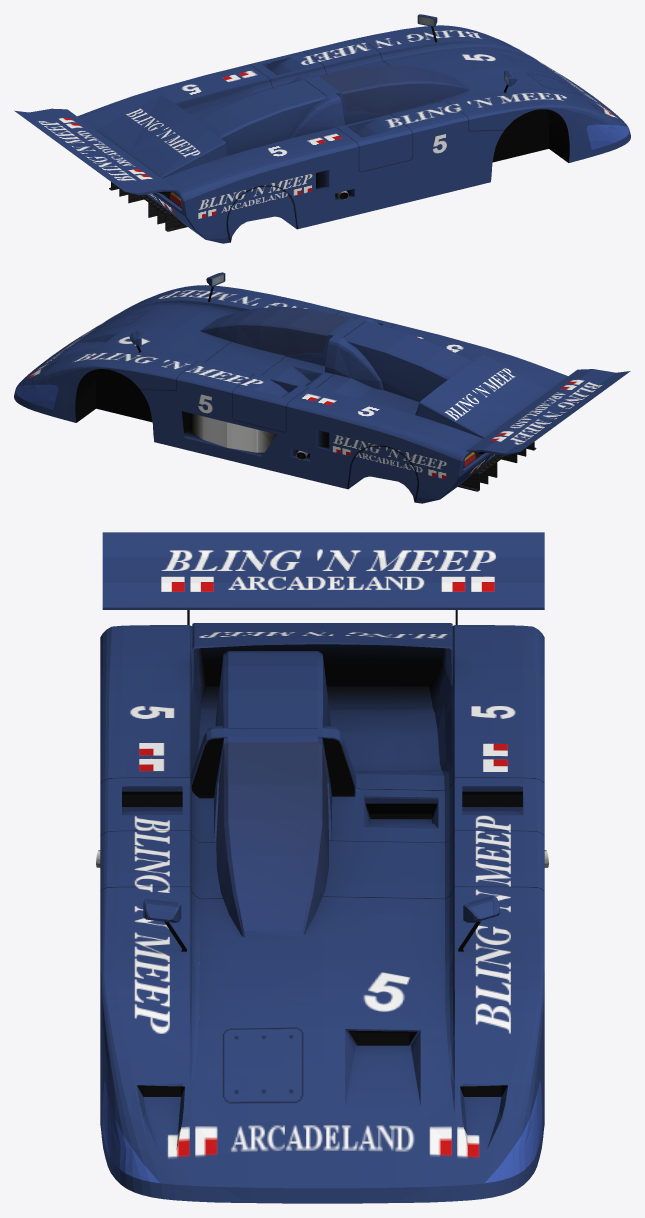
The model's file is lmp2.glb.
3 renders of one model, top to bottom at view 1: azimuth 30°, elevation 25°; view 2: azimuth 150°, elevation 25°; view 3: azimuth 270°, elevation 25°, orthographic. The views are drawn at different scales.
Parts seen in each view (by area): view 1: car; view 2: car; view 3: car.
Part boxes in pixels (x1,y1,x2,y2): car: [14, 14, 630, 243]; car: [14, 272, 630, 503]; car: [96, 532, 548, 1203].
Bounding box in the file's own units: 5.43 × 0.9435 × 2.03.
1 material, 1 textured.
